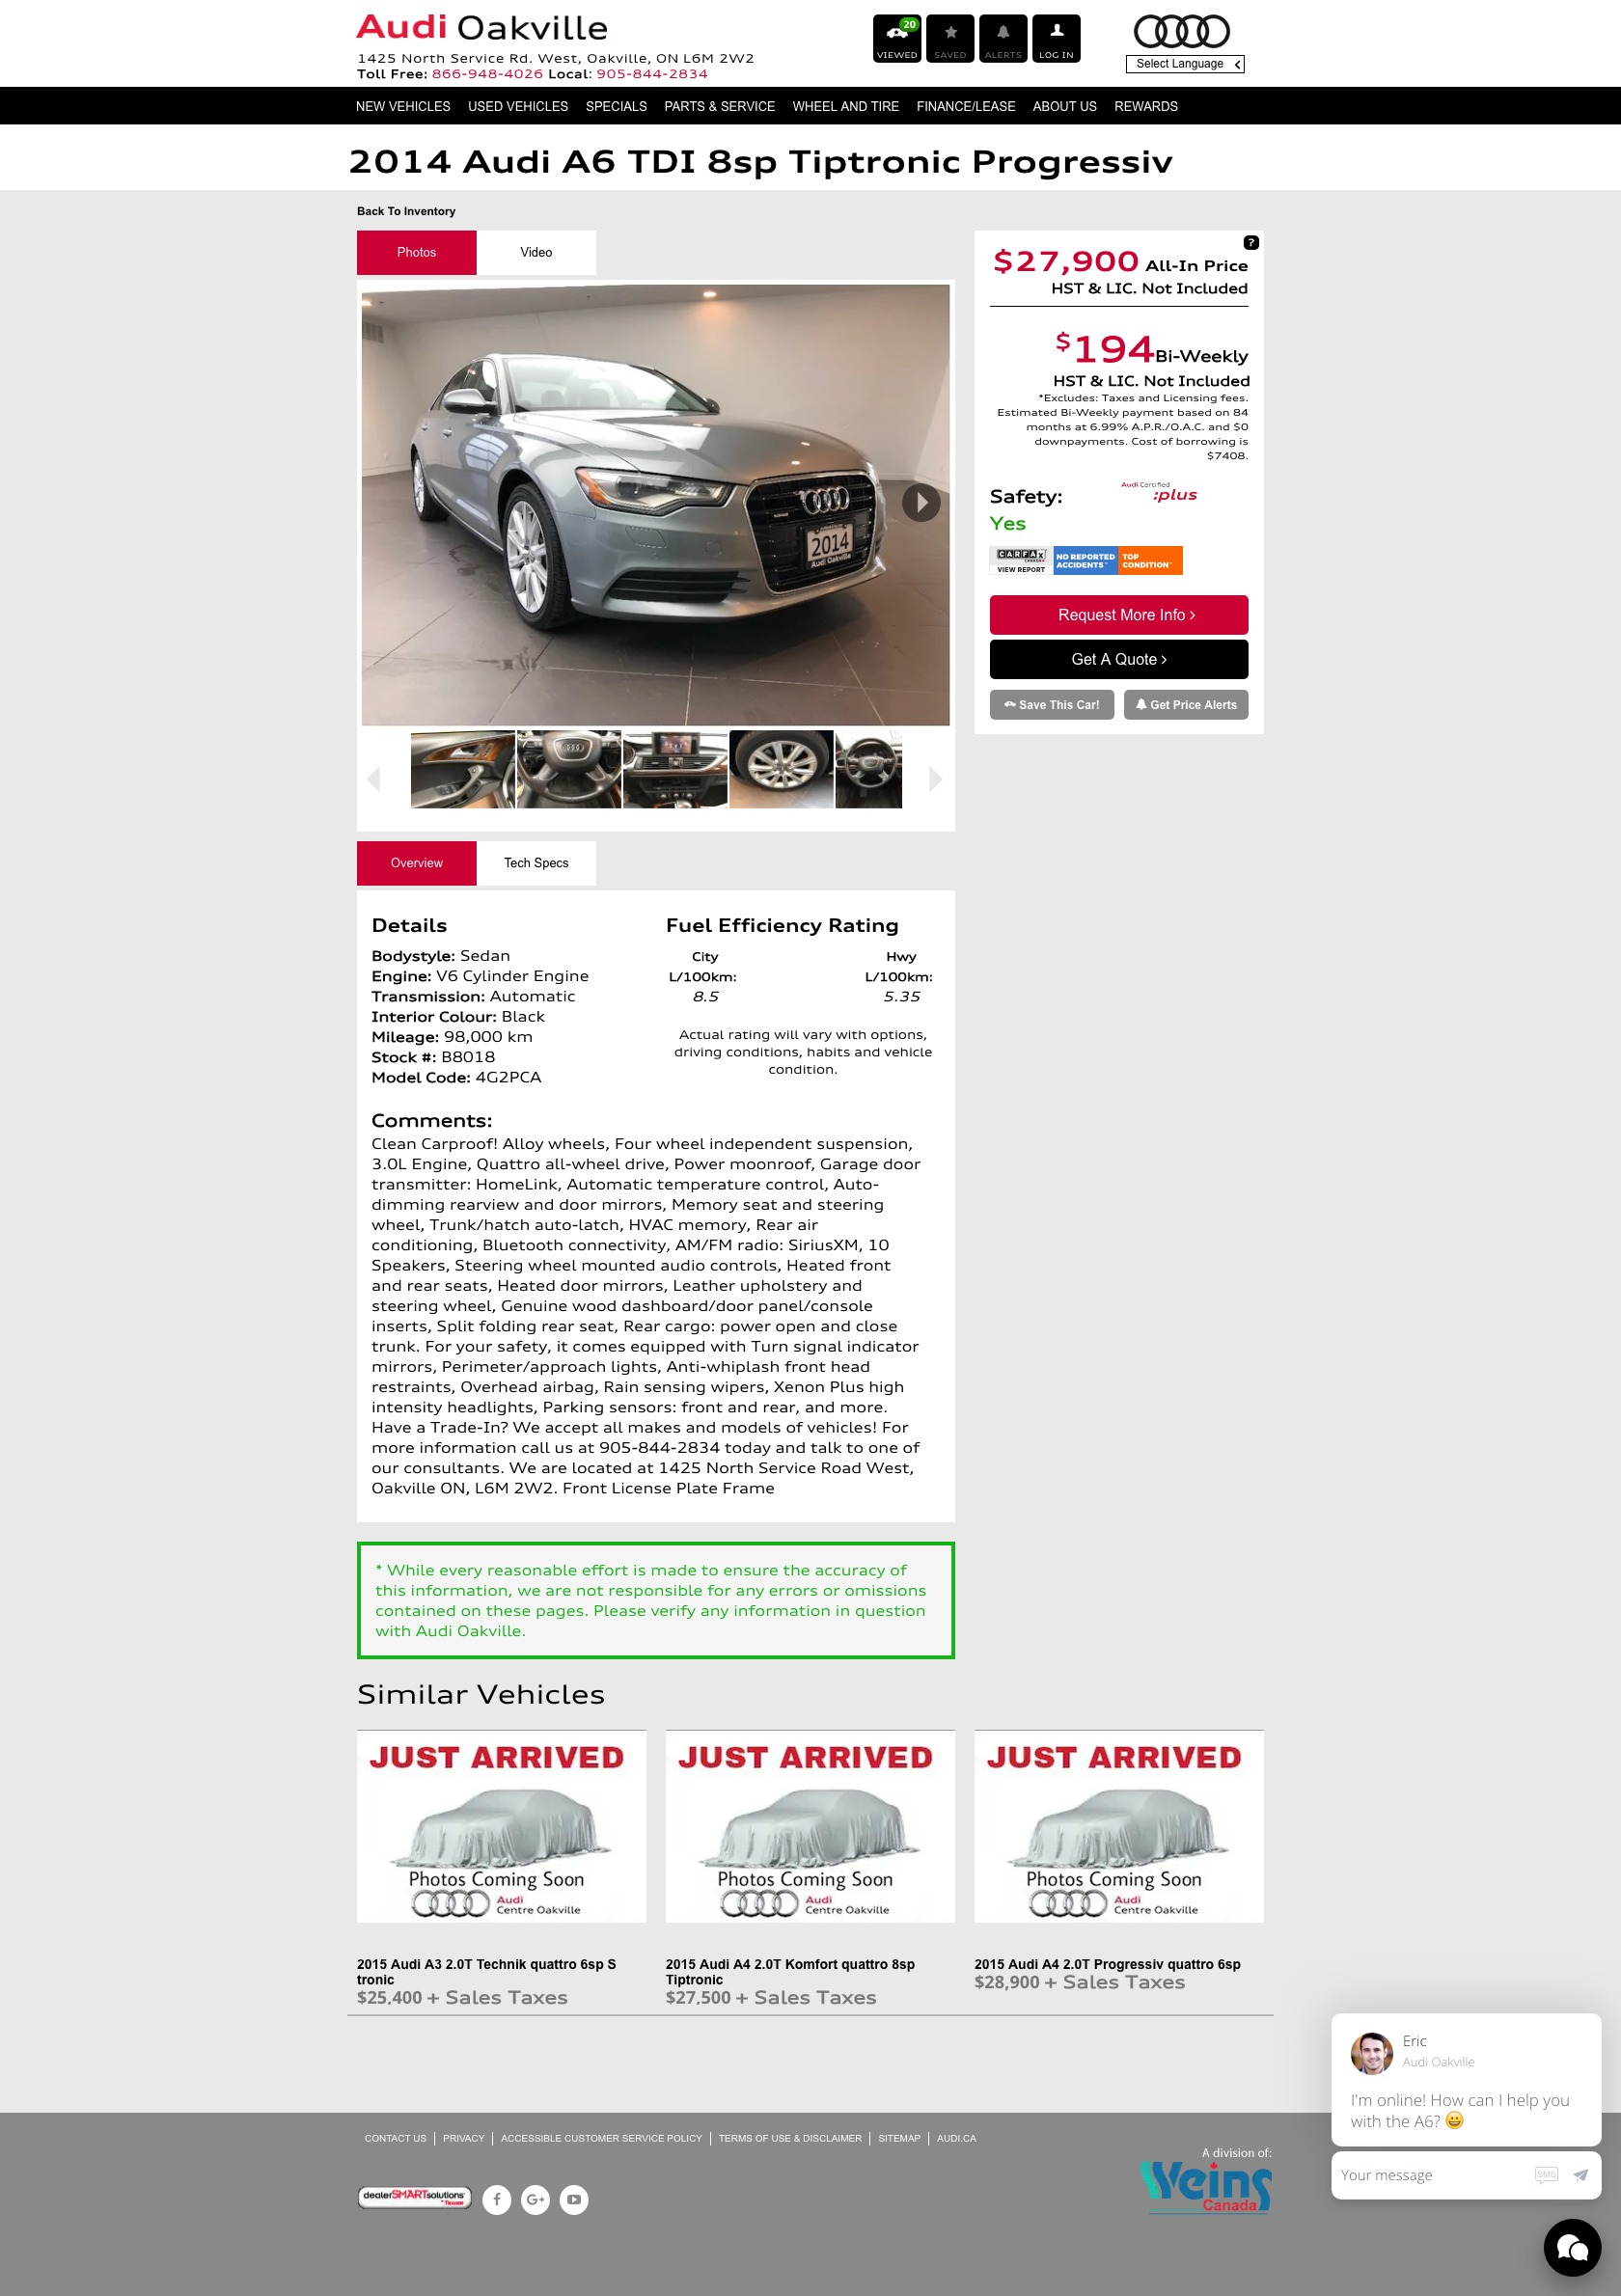car: (928, 767, 944, 795)
